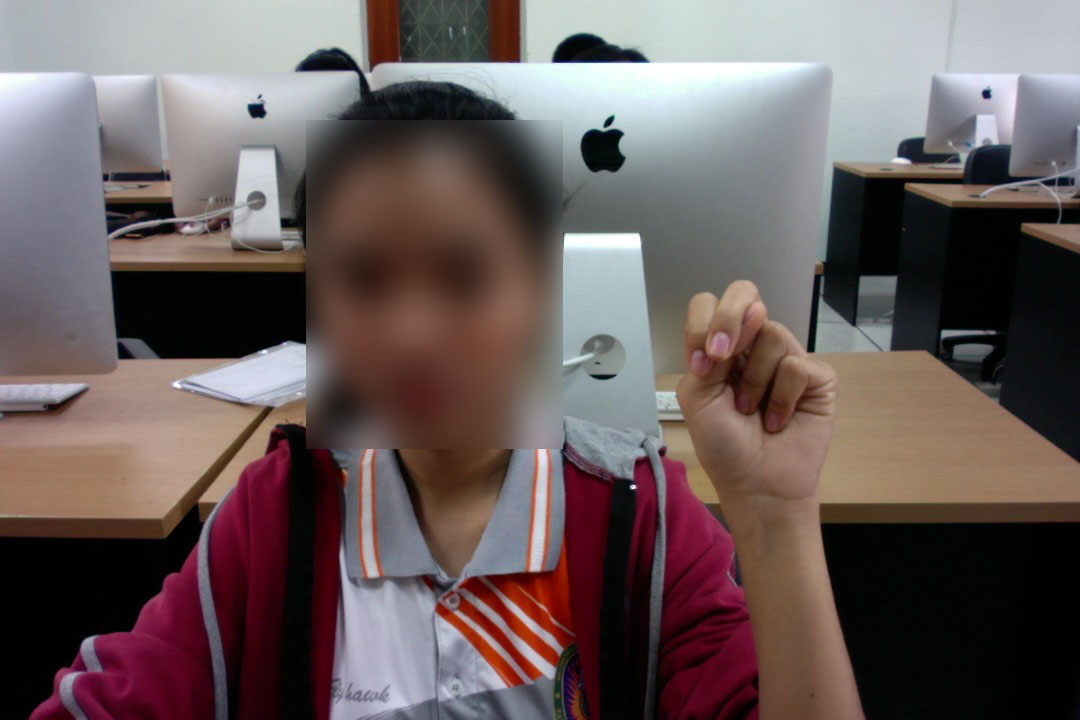nor: (668, 277, 846, 523)
